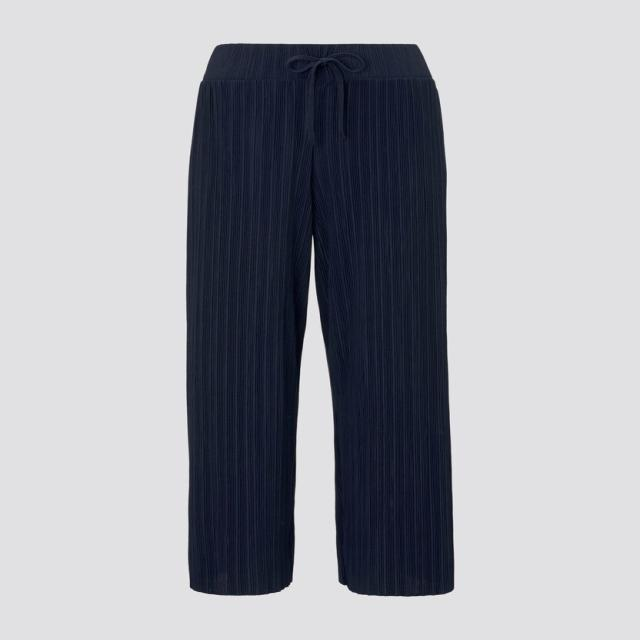long-pants: (185, 45, 458, 600)
